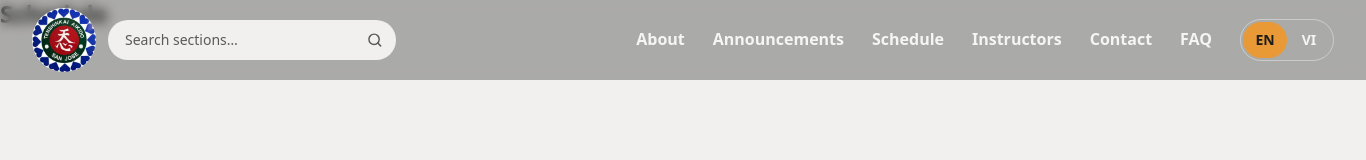
Test: Navbar › switches language from the menu
This screenshot has width=1366, height=160.
Step 1. Click the button named "Tiếng Việt" → (1309, 40), box [1287, 22, 1331, 58]
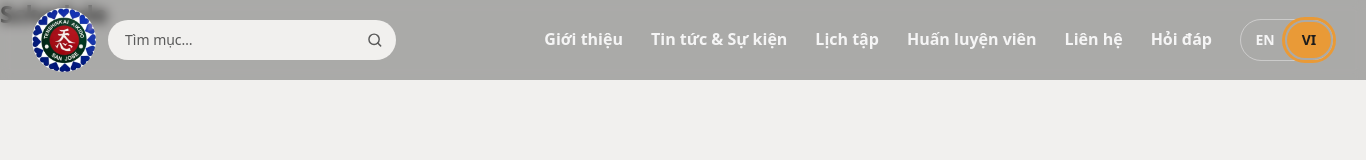
Check: the link "Lịch tập" is shown, box [815, 28, 879, 50]
